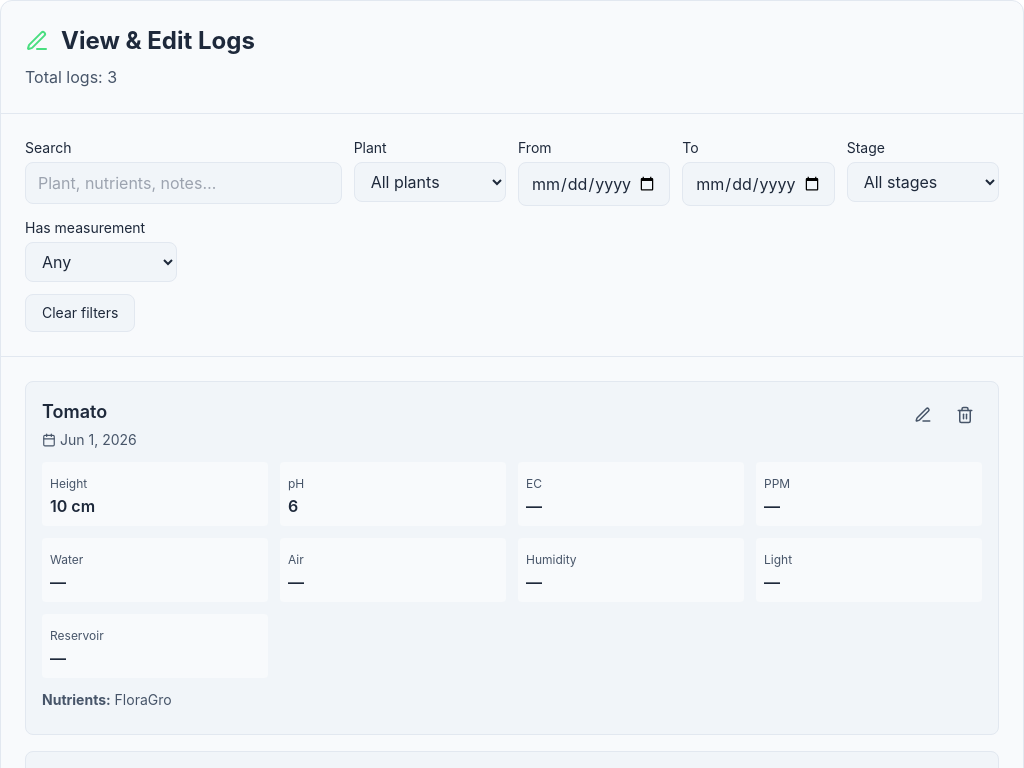
Test: LogViewer filtering (MR-43) › an empty result shows the no-match message
Type "nonexistent-plant-xyz" into the field named "Search logs" at (183, 183), box [25,162,342,204]
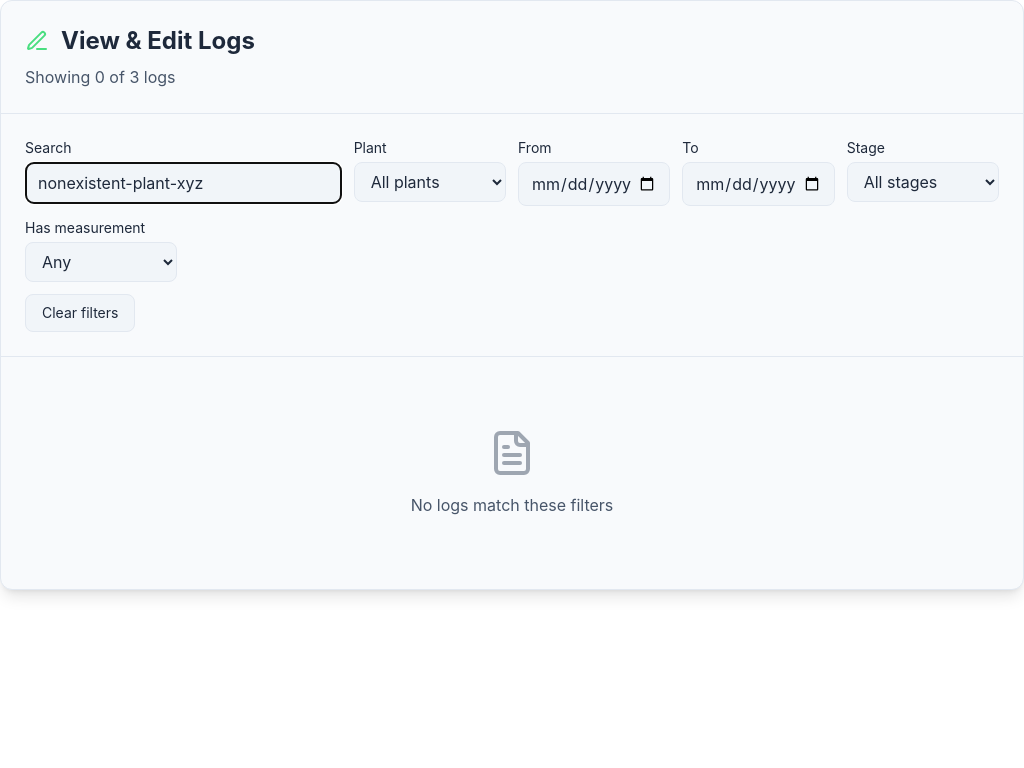
Expected: the text "No logs match these filters" is shown, [411,495,613,515]
